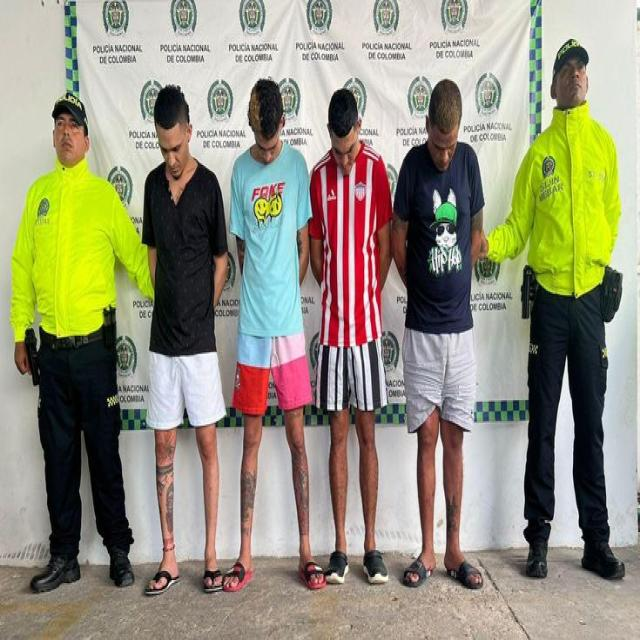9_cabeza_baja: (248, 77, 286, 164)
